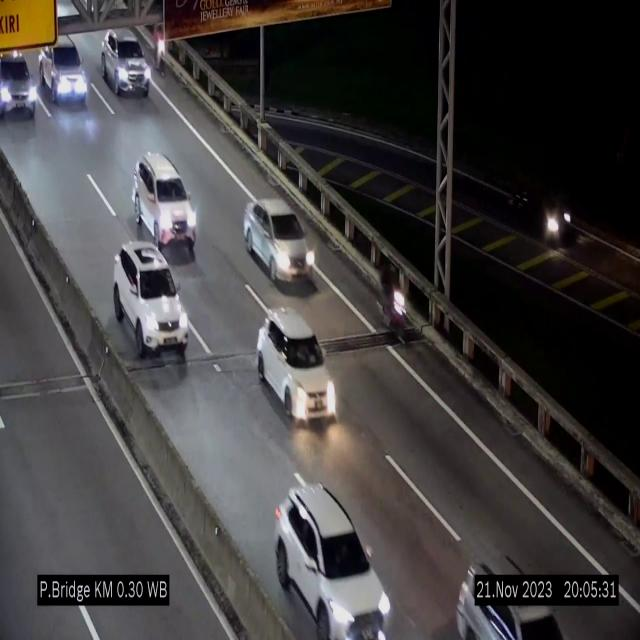Car: (275, 483, 391, 640), (449, 549, 567, 640), (257, 309, 337, 423), (113, 242, 189, 356), (243, 198, 316, 286), (133, 152, 197, 250), (508, 180, 578, 250), (101, 29, 149, 97), (38, 39, 88, 104), (0, 41, 36, 122)
Motorcycle: (380, 262, 410, 348)
